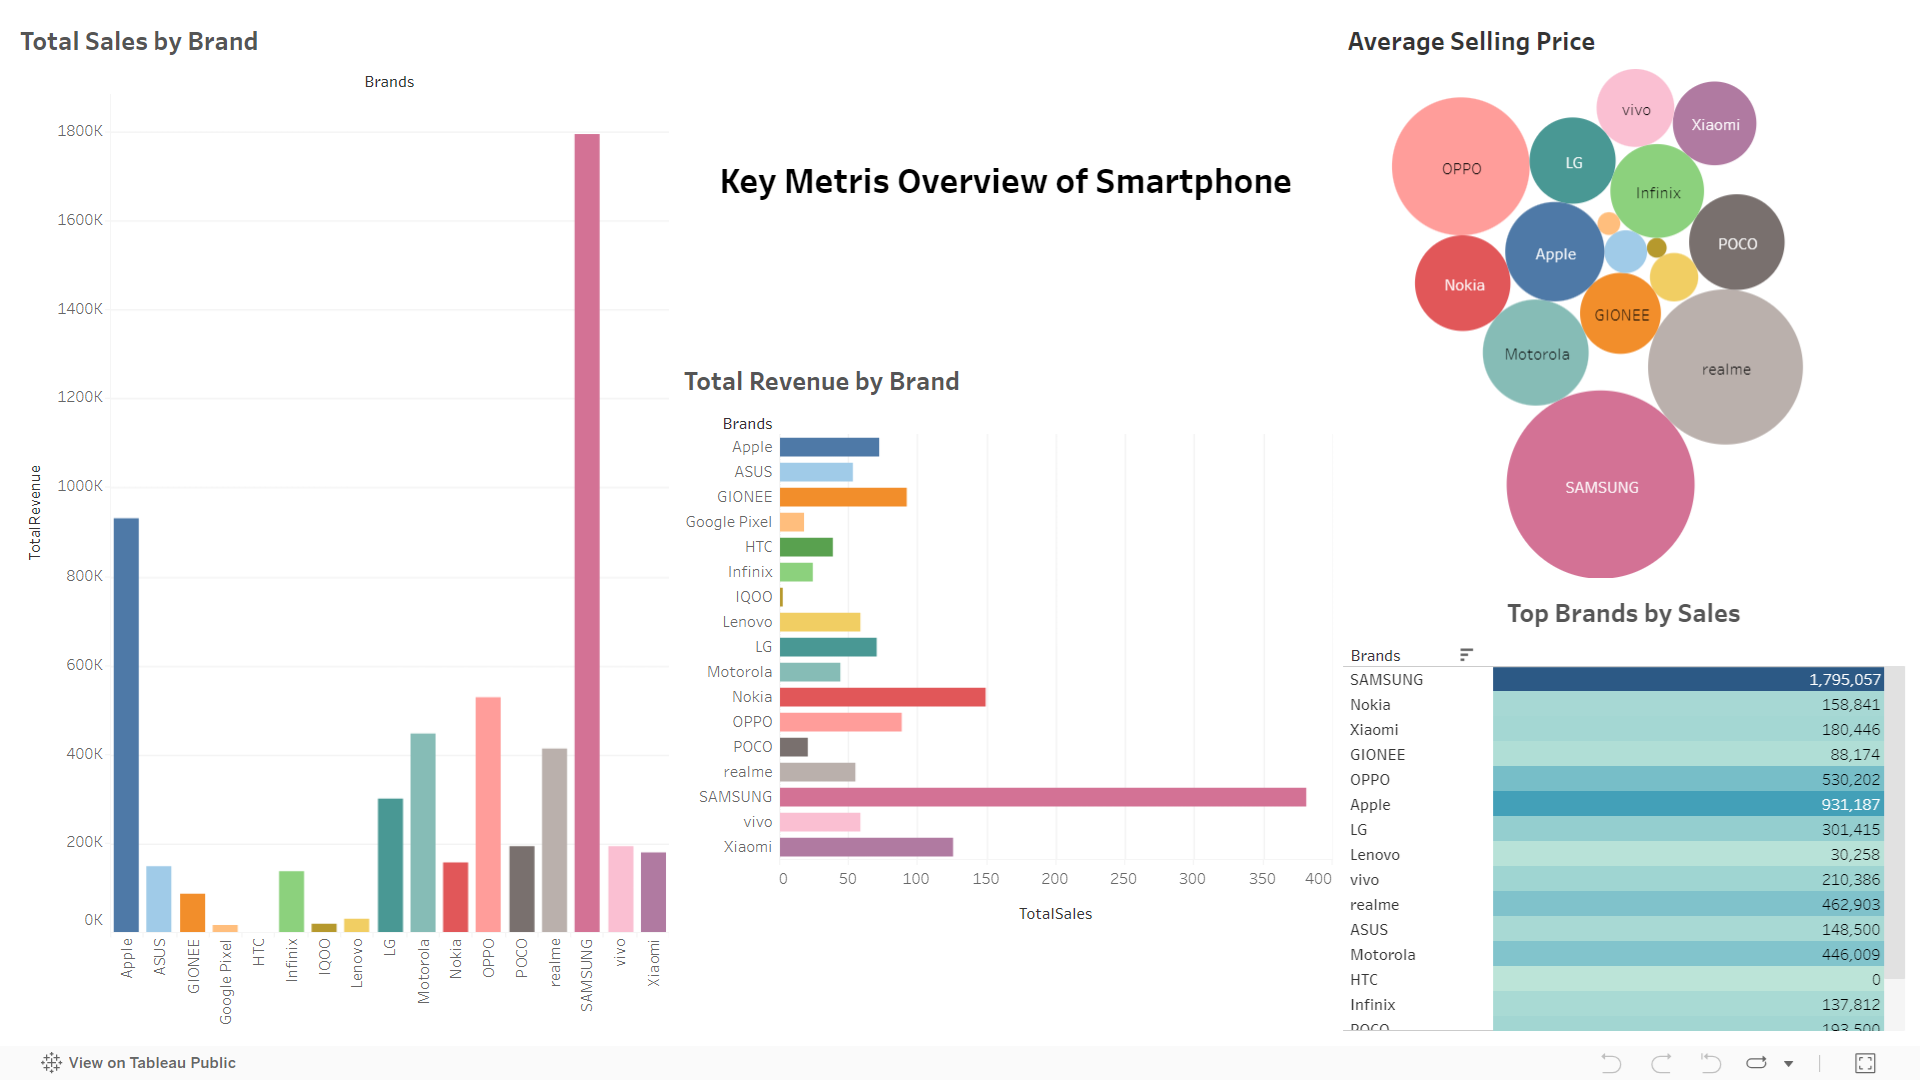

This screenshot's page, from the dashboard's own definition file:
{"tool":"tableau","page":{"name":"Dashboard 1","canvas":[1000,1000],"units":"permille","ordinal":0},"visuals":[{"type":"worksheet","title":"Sheet 1","mark":"Automatic","rows":["Calculation_1018095021499392000"],"cols":["Brands"],"box":[6.1,14.8,319.5,970.3]},{"type":"text","box":[325.6,14.8,319.5,321]},{"type":"worksheet","title":"Sheet 3","mark":"Circle","box":[645.1,14.8,348.8,849.7]},{"type":"worksheet","title":"Sheet 2","mark":"Automatic","rows":["Brands"],"cols":["Calculation_1018095021500407810"],"box":[325.6,335.8,319.5,649.4]},{"type":"worksheet","title":"Sheet 4","mark":"Square","rows":["Brands"],"box":[645.1,864.6,348.8,120.6]}]}

Visuals, with their boxes on the dashboard's canvas, which has no fixed pixel size, in thousandths of its width and height (x1, y1, x2, y2). These are canvas units, not pixel positions in the 1920x1080 screenshot, which may show the page scaled, cropped or inside an application window:
"Sheet 1" worksheet: (6,15,326,985)
text: (326,15,645,336)
"Sheet 3" worksheet (Circle marks): (645,15,994,864)
"Sheet 2" worksheet: (326,336,645,985)
"Sheet 4" worksheet (Square marks): (645,865,994,985)
